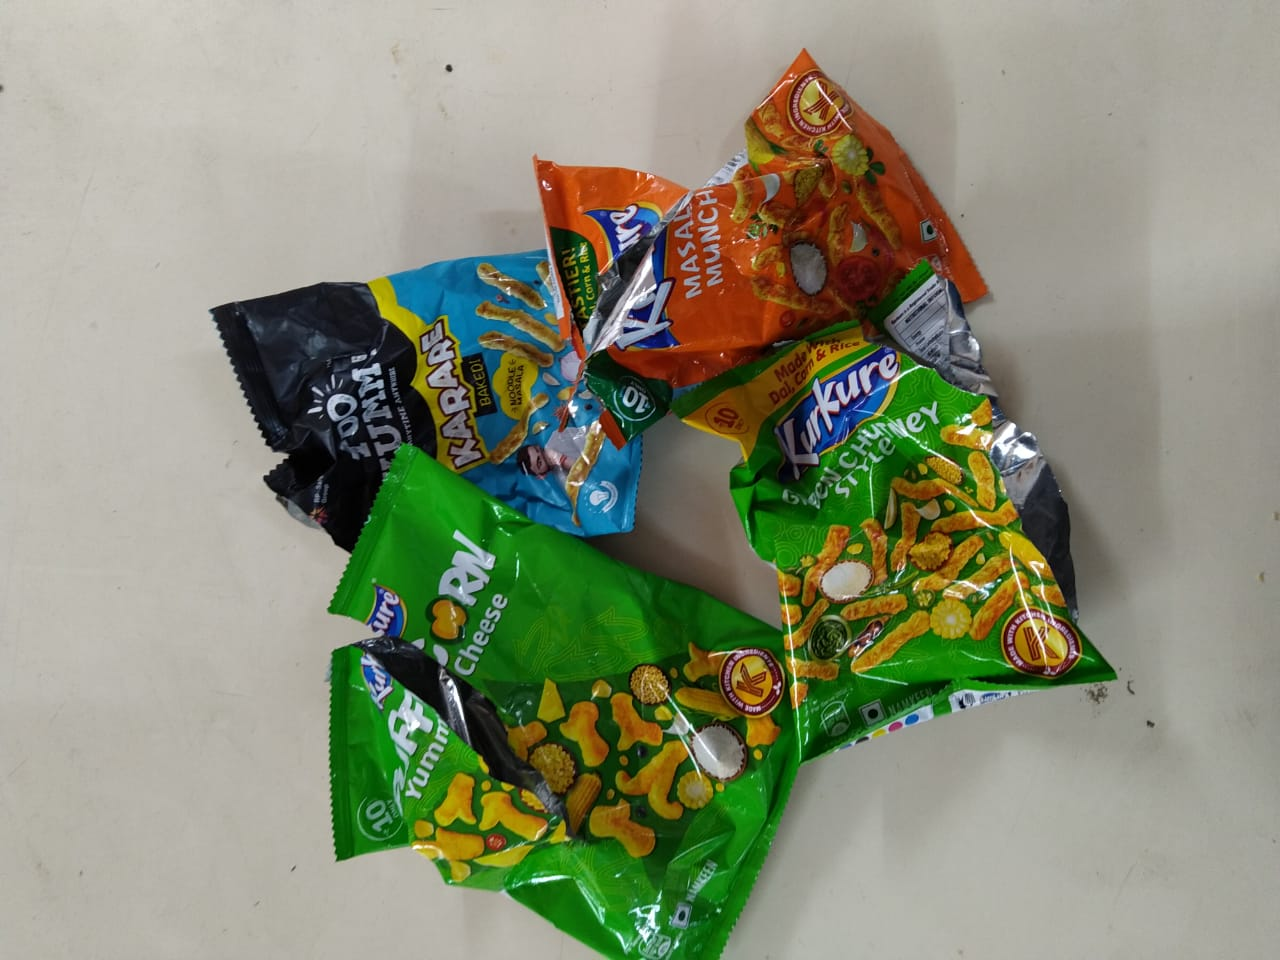kurkure: (773, 335, 927, 483), (349, 569, 429, 707), (613, 233, 693, 371), (573, 191, 677, 289), (365, 587, 437, 691)
plastic: (185, 57, 1093, 921)
tooyumm: (329, 329, 409, 505)
wrapper: (305, 441, 819, 957), (663, 269, 1127, 725), (543, 39, 997, 421), (213, 217, 673, 571)
